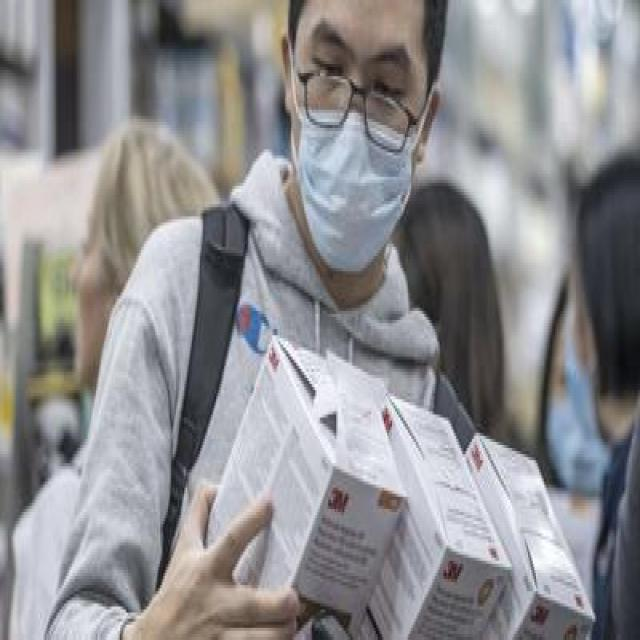with_mask: (292, 14, 425, 279), (545, 345, 609, 498), (564, 260, 606, 446)
without_mask: (67, 215, 112, 404)
